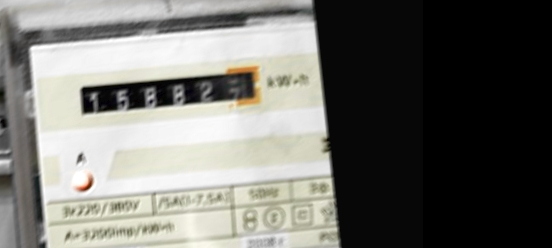1: (85, 90, 101, 113)
2: (196, 79, 214, 105)
5: (113, 87, 130, 113)
7: (226, 83, 240, 102)
8: (169, 82, 185, 108), (141, 86, 156, 110)
screen: (69, 57, 271, 134)
